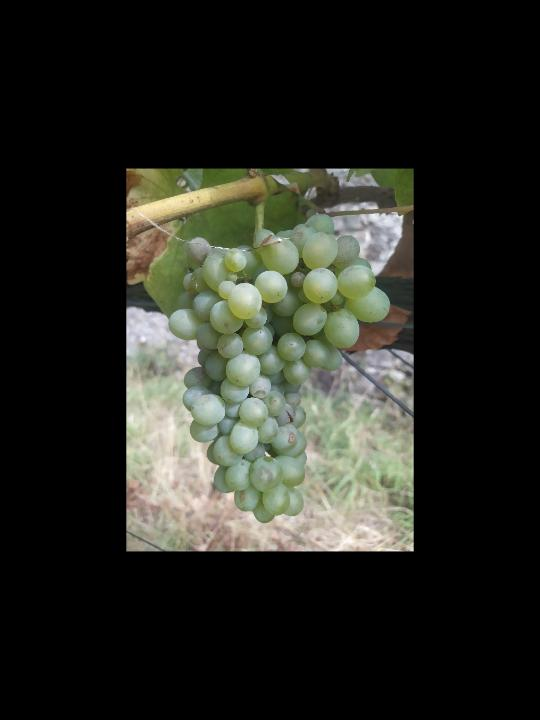grape: (165, 213, 391, 525)
